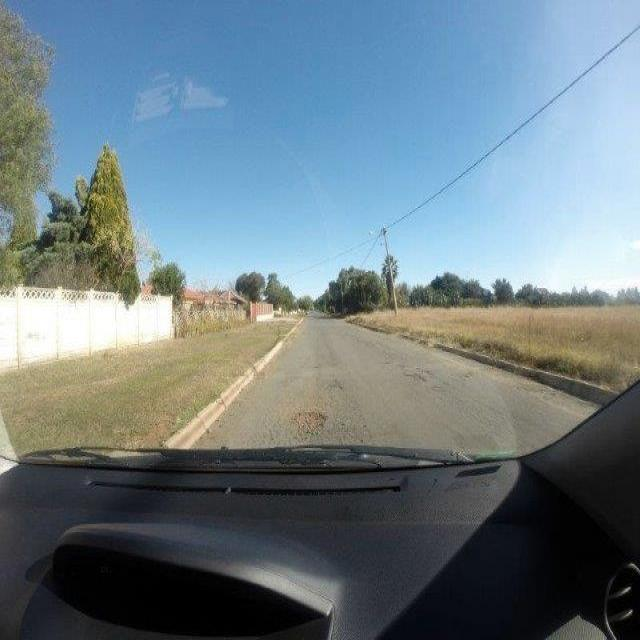lubang: (291, 402, 329, 440)
